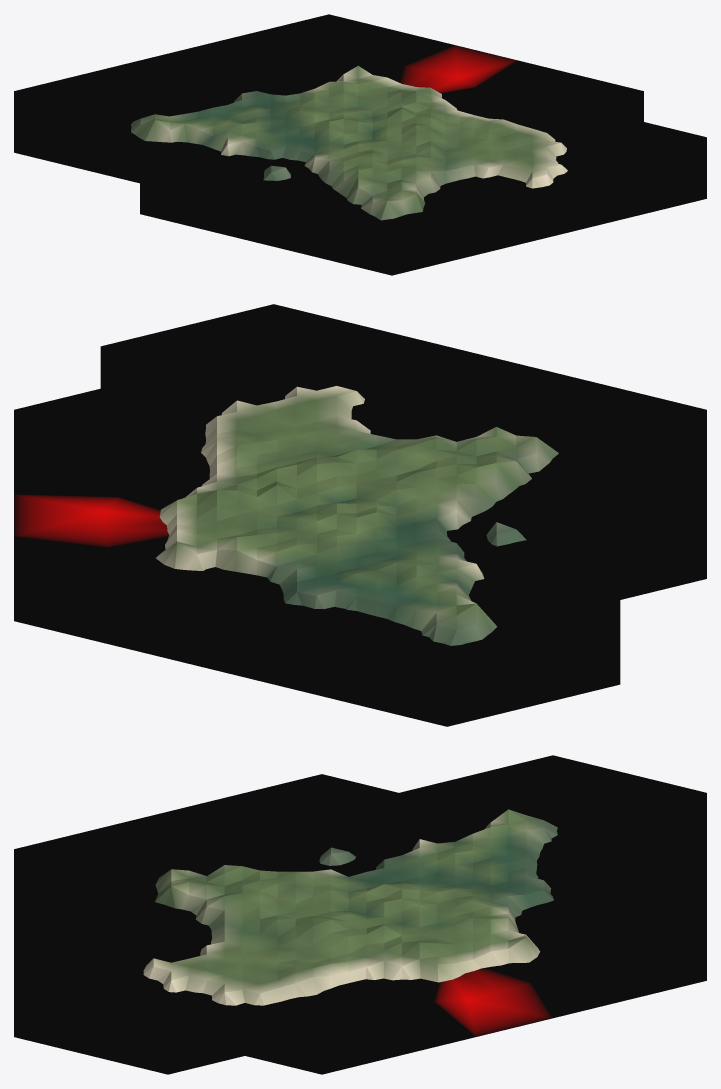
The model's file is landmark-boipeba-low.v1.glb.
3 renders of one model, top to bottom at view 1: azimuth 30°, elevation 25°; view 2: azimuth 150°, elevation 25°; view 3: azimuth 270°, elevation 25°, orthographic. The views are drawn at different scales.
Parts seen in each view (by area): view 1: surf, island; view 2: surf, island; view 3: surf, island.
Part boxes in pixels (x1,y1,x2,y2): surf: [14, 14, 706, 275]; island: [131, 65, 567, 220]; surf: [14, 304, 706, 726]; island: [156, 386, 558, 645]; surf: [14, 755, 706, 1074]; island: [143, 809, 557, 1005].
Bounding box in the file's own units: 42.84 × 4.55 × 39.28.
